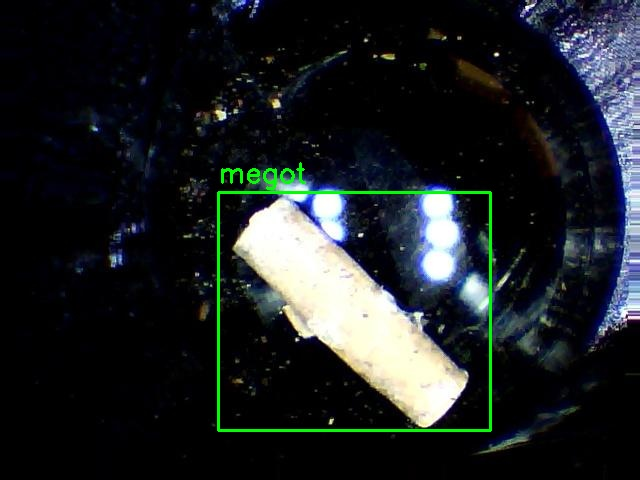megot: (218, 192, 490, 430)
